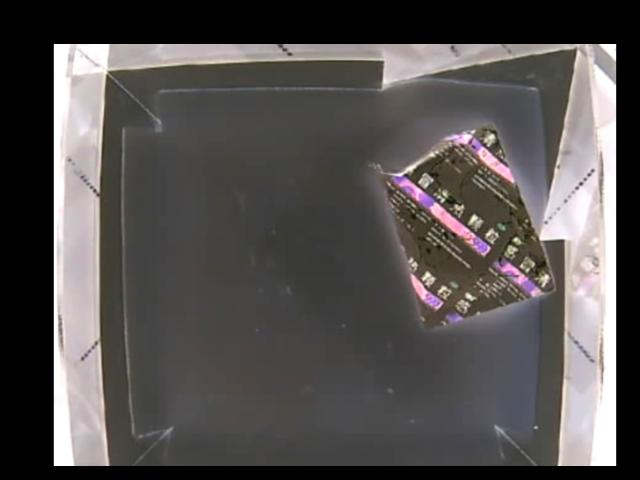Medicine: (366, 119, 554, 332)
